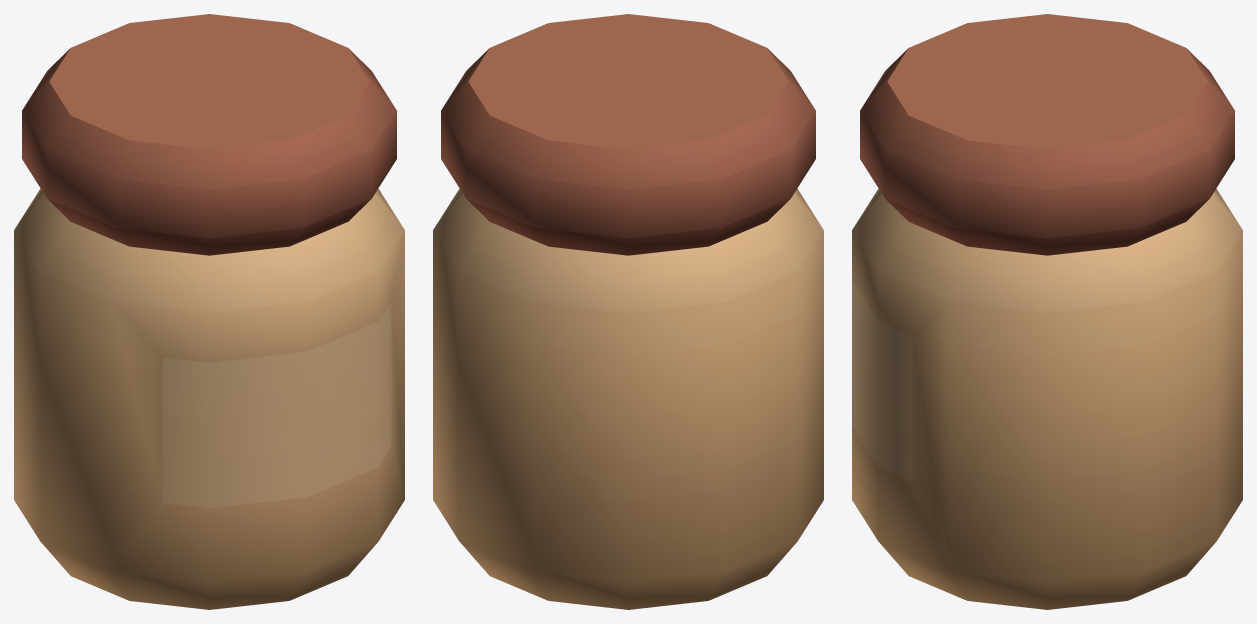
The model's file is kaykit-restaurant-bits-jar-c-medium.glb.
3 views of the same model, side by side, from view 1: azimuth 30°, elevation 25°; view 2: azimuth 150°, elevation 25°; view 3: azimuth 270°, elevation 25° (orthographic).
Visible parts, largest first — view 1: jar_C_medium; view 2: jar_C_medium; view 3: jar_C_medium.
Boxes of the visible parts, left/top/right/bottom form: jar_C_medium: left=14, top=14, right=404, bottom=609; jar_C_medium: left=433, top=14, right=823, bottom=609; jar_C_medium: left=852, top=14, right=1242, bottom=609.
Bounding box in the file's own units: 0.5 × 0.65 × 0.5.
Materials: 1 (1 with a texture image).
